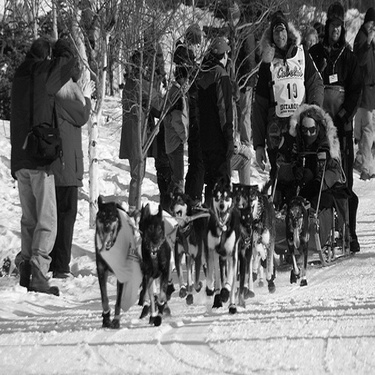dog: (88, 191, 153, 333), (163, 187, 212, 308), (203, 179, 241, 317), (132, 203, 174, 319), (247, 177, 280, 295), (143, 199, 172, 326), (284, 192, 315, 283), (230, 180, 251, 267)
